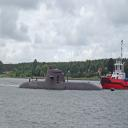submarine: (20, 68, 106, 91)
